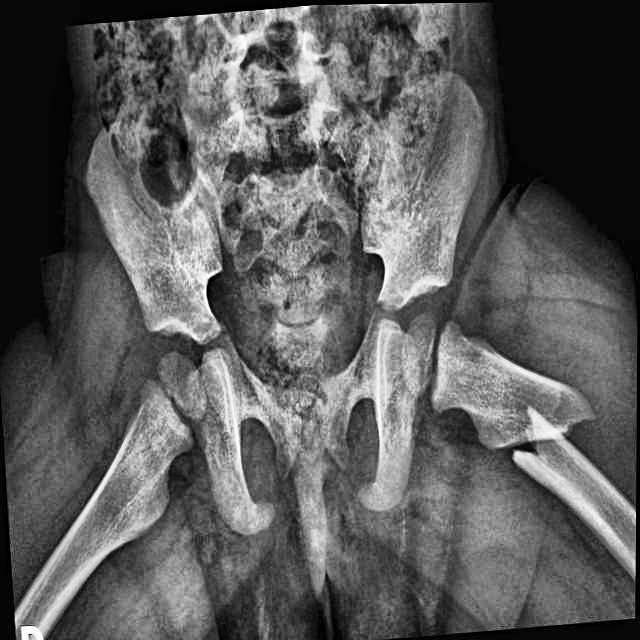Transverse: (485, 369, 611, 498)
